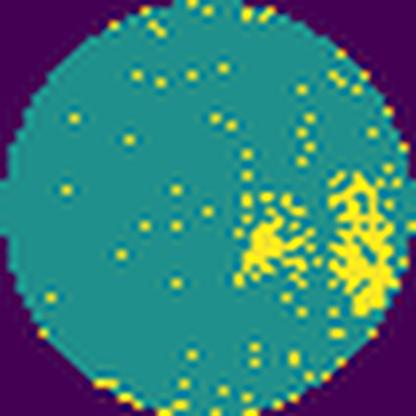Loc: (327, 172, 396, 314), (232, 206, 314, 286)
